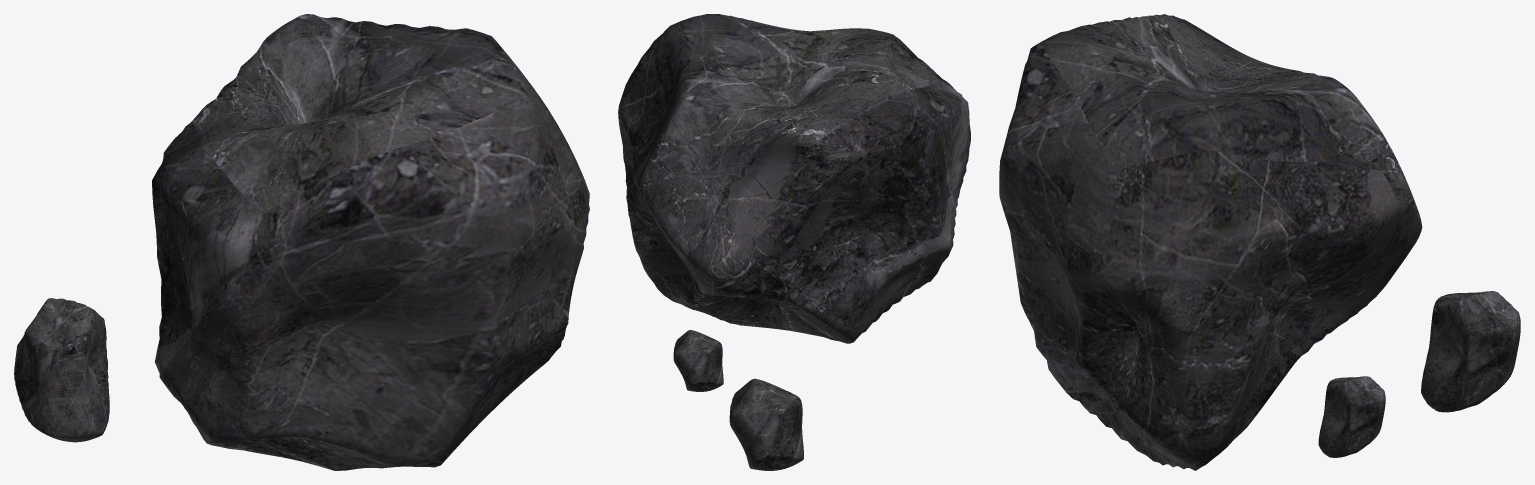
The model's file is stone.fbx.
3 views of the same model, side by side, from view 1: azimuth 30°, elevation 25°; view 2: azimuth 150°, elevation 25°; view 3: azimuth 270°, elevation 25° (orthographic). The views are drawn at different scales.
Visible parts, largest first — view 1: Cube, Cube.001; view 2: Cube, Cube.001, Cube.002; view 3: Cube, Cube.001, Cube.002.
Part boxes in pixels (box(x1,y1,x2,y2)): Cube: box(152, 14, 589, 470); Cube.001: box(14, 298, 109, 442); Cube: box(618, 14, 970, 343); Cube.001: box(729, 378, 803, 470); Cube.002: box(673, 330, 723, 391); Cube: box(999, 14, 1422, 470); Cube.001: box(1421, 291, 1520, 412); Cube.002: box(1318, 376, 1385, 457).
Bounding box in the file's own units: 261 × 262 × 301.
Materials: 1 (1 with a texture image).
